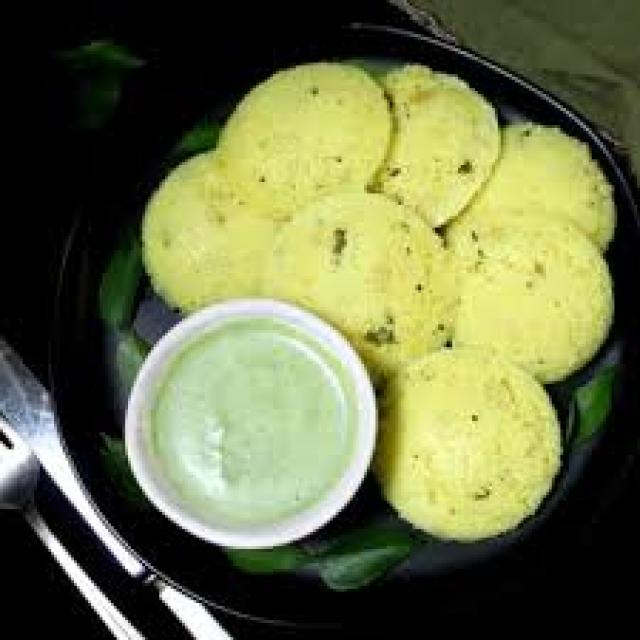IDLI: (250, 193, 455, 373), (381, 347, 558, 538), (449, 199, 612, 381), (216, 63, 390, 219), (142, 151, 276, 307), (370, 65, 498, 225), (469, 125, 614, 247)
